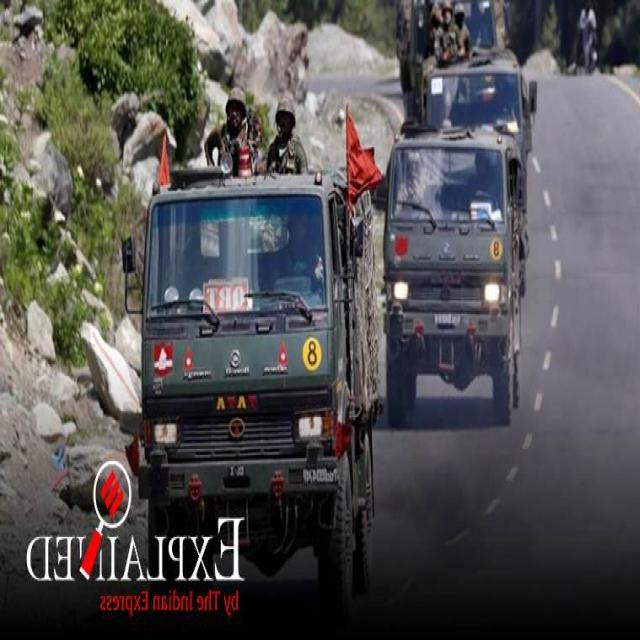truck: (140, 171, 379, 619), (384, 128, 526, 425)
